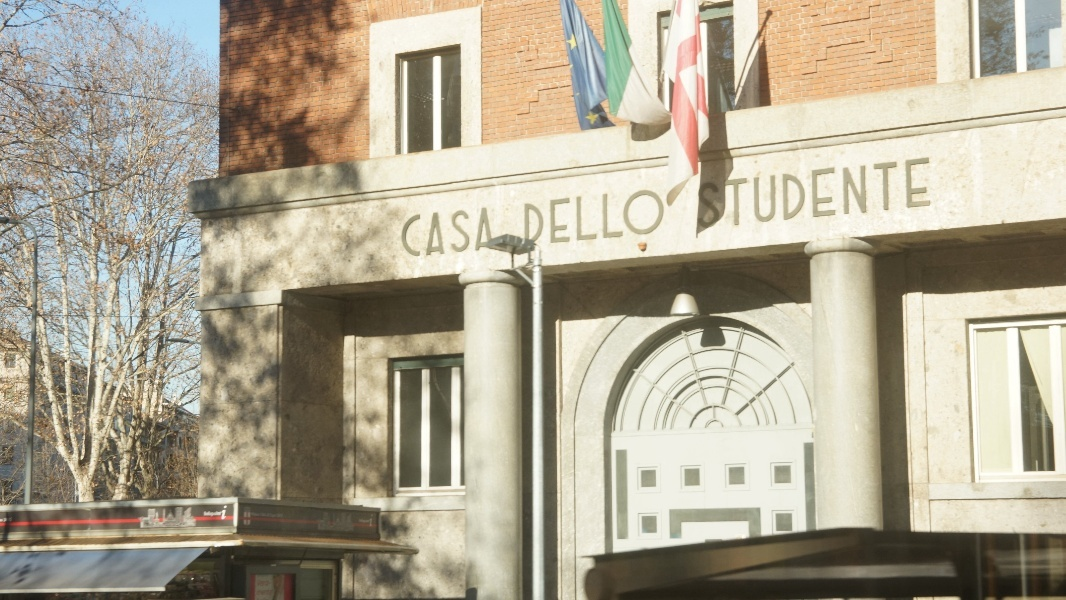text: (705, 157, 720, 228), (721, 157, 736, 228), (737, 157, 752, 228), (753, 157, 768, 228), (769, 157, 784, 228), (785, 157, 800, 228), (801, 157, 816, 228), (817, 157, 832, 228), (833, 157, 848, 228), (849, 157, 864, 228), (865, 157, 880, 228), (881, 157, 896, 228), (897, 157, 912, 228), (913, 157, 928, 228), (529, 185, 544, 244), (545, 185, 560, 244), (561, 185, 576, 244), (577, 185, 592, 244), (593, 185, 608, 244), (609, 185, 624, 244), (625, 185, 640, 244), (641, 185, 656, 244), (401, 208, 416, 259), (417, 208, 432, 259), (433, 208, 448, 259), (449, 208, 464, 259), (465, 208, 480, 259), (657, 185, 669, 244), (481, 208, 494, 259), (698, 157, 704, 228), (321, 511, 336, 534), (337, 511, 352, 534), (353, 511, 368, 534), (257, 507, 272, 526), (209, 506, 224, 522), (244, 507, 256, 526), (273, 507, 285, 526), (525, 185, 528, 244), (929, 157, 931, 228), (369, 511, 374, 534), (203, 506, 208, 522), (399, 208, 400, 259), (225, 506, 227, 522)
